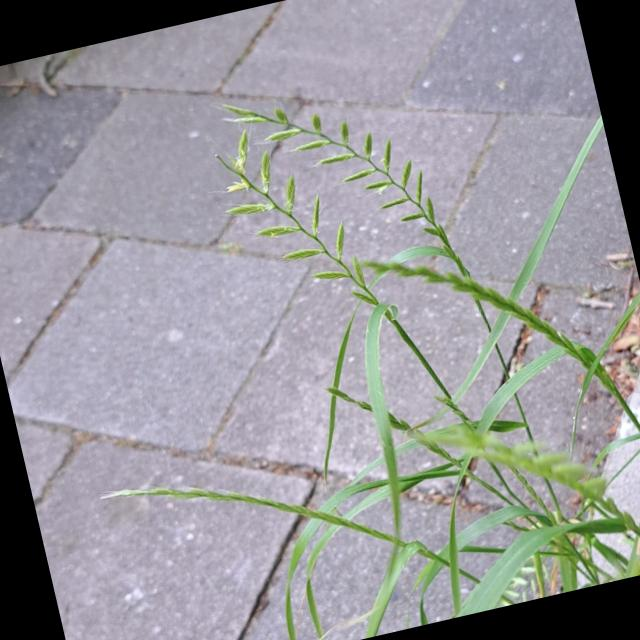Lolium: (362, 212, 614, 436), (230, 63, 448, 273), (218, 114, 377, 328)
